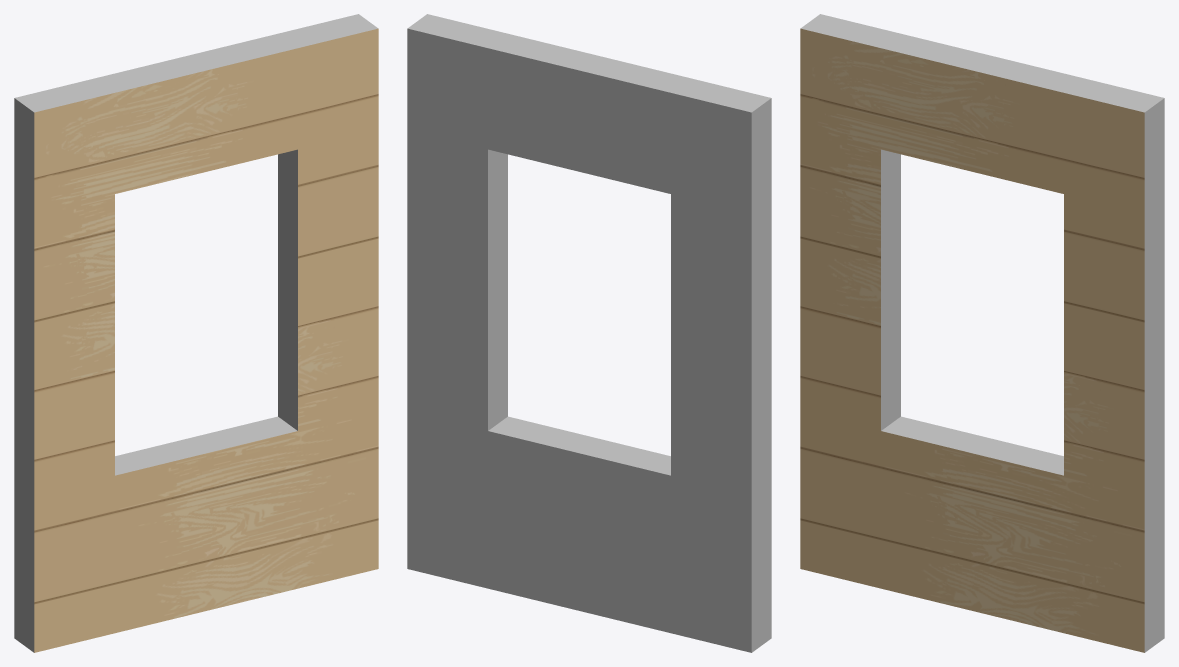
The model's file is Wall Standard Window 3.fbx.
3 renders of one model, left to right at view 1: azimuth 30°, elevation 25°; view 2: azimuth 150°, elevation 25°; view 3: azimuth 330°, elevation 25°, orthographic.
Visible parts, largest first — view 1: Wall Standard (Window 3); view 2: Wall Standard (Window 3); view 3: Wall Standard (Window 3).
Boxes of the visible parts, <box> form: Wall Standard (Window 3): <box>14,14,378,652</box>; Wall Standard (Window 3): <box>407,14,771,652</box>; Wall Standard (Window 3): <box>800,14,1164,652</box>.
Size of the model in its own units: 200 by 300 by 20.
